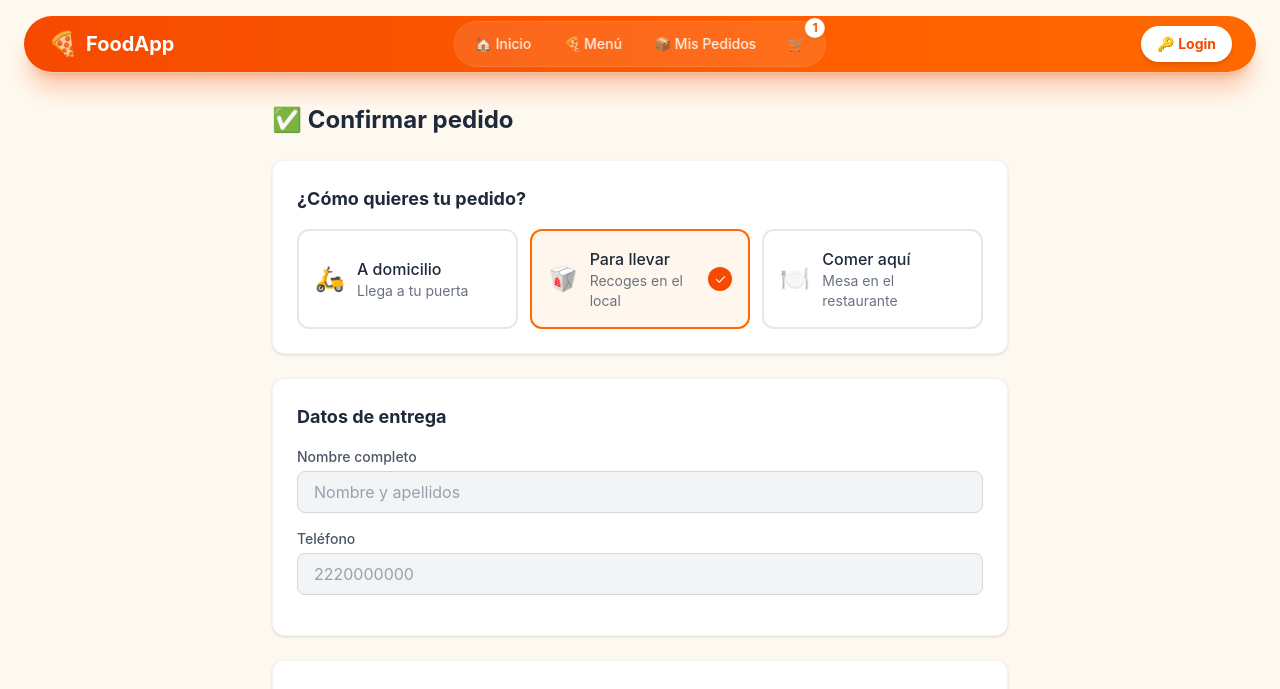
Test: CheckoutPage - modo Comer aquí › en Para llevar pide teléfono pero no notas (las notas son solo de A domicilio)
expect the field labelled "Teléfono" is shown: met, box [297,553,983,595]
expect the field labelled "Notas para el repartidor" is not shown: met
Click the text "A domicilio" at (399, 269), box [357,259,441,279]
(page scrolled)
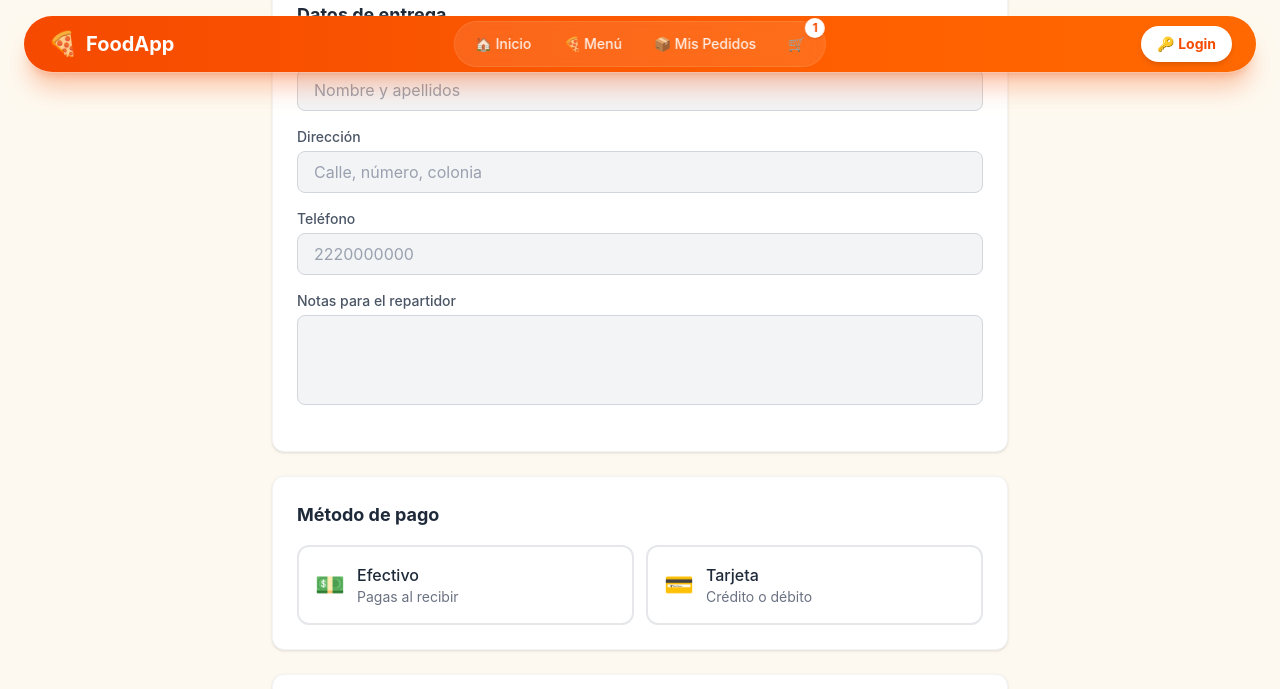
expect the text box labelled "Notas para el repartidor" is shown: met, box [297,315,983,405]
